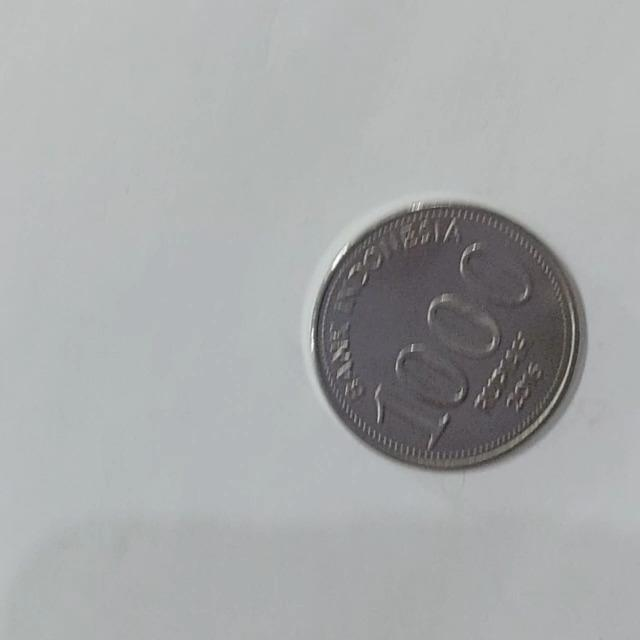Rp100: (308, 197, 586, 470)
